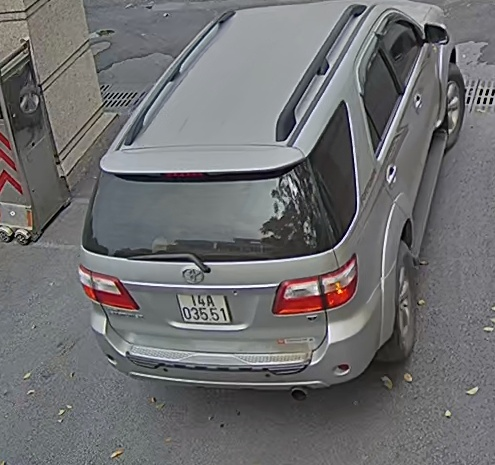vehicle plate: (174, 285, 232, 327)
